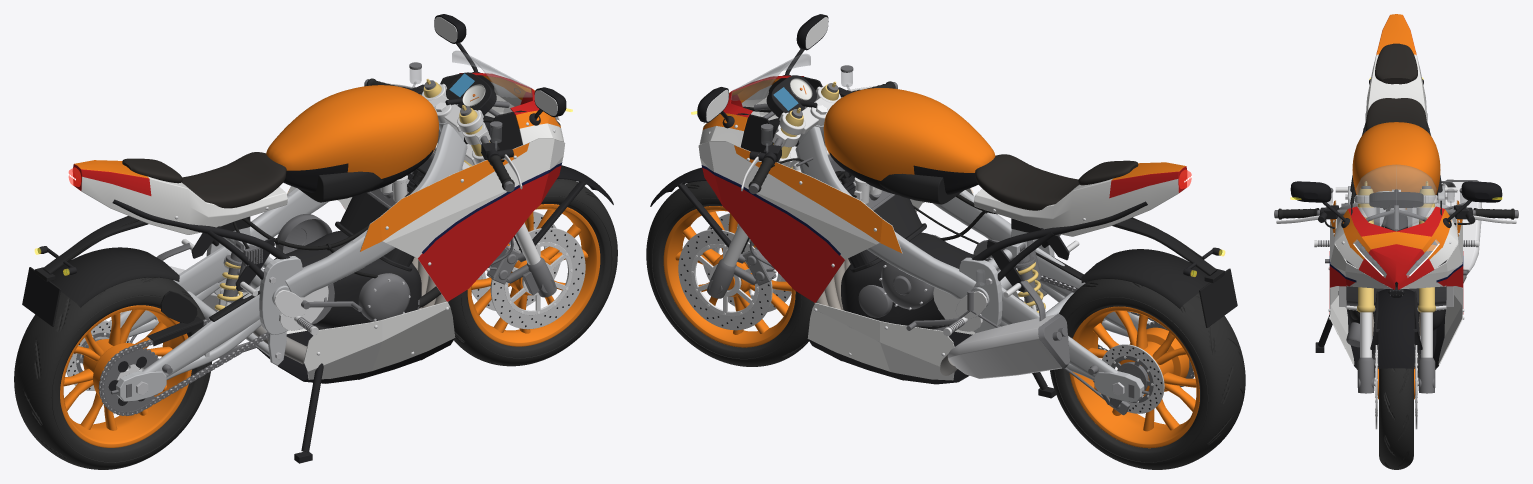
File: bike_superbike.glb
The picture shows the model from 3 angles, left to right: view 1: azimuth 30°, elevation 25°; view 2: azimuth 150°, elevation 25°; view 3: azimuth 270°, elevation 25°; orthographic projection. The views are drawn at different scales.
Visible parts, largest first — view 1: wheels__rear_wheel__tyre, frame_body__fuel_tank, frame_body__frame__main_spars, chassis__swingarm, wheels__front_wheel__tyre, frame_body__fairing__side_left__lower, frame_body__tail_unit, frame_body__fairing__side_left__red, frame_body__fairing__side_left, frame_body__rear_hugger, wheels__rear_wheel__rim, frame_body__seat (+33 smaller); view 2: wheels__rear_wheel__tyre, frame_body__fuel_tank, frame_body__frame__main_spars, wheels__front_wheel__tyre, frame_body__tail_unit, frame_body__fairing__side_right__red, frame_body__fairing__side_right__lower, frame_body__fairing__side_right, chassis__swingarm, powertrain__exhaust__silencer, wheels__rear_wheel__rim, frame_body__rear_hugger (+32 smaller); view 3: frame_body__fairing__upper, frame_body__fuel_tank, frame_body__fairing__screen, wheels__front_wheel__tyre, frame_body__front_mudguard, frame_body__tail_unit, frame_body__fairing__mirrors, frame_body__seat, frame_body__seat__pillion, powertrain__exhaust__silencer, frame_body__fairing__side_left, frame_body__fairing__side_right (+29 smaller).
Boxes of the visible parts, left/top/right/bottom form: wheels__rear_wheel__tyre: left=14, top=277, right=211, bottom=469; frame_body__fuel_tank: left=266, top=85, right=438, bottom=192; frame_body__frame__main_spars: left=206, top=122, right=467, bottom=365; chassis__swingarm: left=80, top=246, right=263, bottom=401; wheels__front_wheel__tyre: left=448, top=179, right=617, bottom=366; frame_body__fairing__side_left__lower: left=303, top=301, right=455, bottom=379; frame_body__tail_unit: left=73, top=160, right=287, bottom=234; frame_body__fairing__side_left__red: left=418, top=166, right=561, bottom=301; frame_body__fairing__side_left: left=360, top=139, right=565, bottom=299; frame_body__rear_hugger: left=50, top=247, right=197, bottom=323; wheels__rear_wheel__rim: left=60, top=305, right=191, bottom=447; frame_body__seat: left=181, top=152, right=286, bottom=208; wheels__rear_wheel__tyre: left=1050, top=279, right=1245, bottom=469; frame_body__fuel_tank: left=823, top=88, right=995, bottom=195; frame_body__frame__main_spars: left=795, top=125, right=1054, bottom=333; wheels__front_wheel__tyre: left=646, top=181, right=814, bottom=366; frame_body__tail_unit: left=974, top=162, right=1187, bottom=236; frame_body__fairing__side_right__red: left=702, top=168, right=844, bottom=302; frame_body__fairing__side_right__lower: left=807, top=303, right=954, bottom=380; frame_body__fairing__side_right: left=698, top=141, right=902, bottom=300; chassis__swingarm: left=997, top=248, right=1150, bottom=402; powertrain__exhaust__silencer: left=947, top=314, right=1061, bottom=378; wheels__rear_wheel__rim: left=1069, top=306, right=1199, bottom=448; frame_body__rear_hugger: left=1081, top=249, right=1209, bottom=308; frame_body__fairing__upper: left=1334, top=206, right=1458, bottom=289; frame_body__fuel_tank: left=1352, top=122, right=1440, bottom=209; frame_body__fairing__screen: left=1356, top=164, right=1436, bottom=231; wheels__front_wheel__tyre: left=1379, top=368, right=1413, bottom=469; frame_body__front_mudguard: left=1378, top=289, right=1414, bottom=368; frame_body__tail_unit: left=1366, top=14, right=1426, bottom=120; frame_body__fairing__mirrors: left=1290, top=181, right=1502, bottom=202; frame_body__seat: left=1365, top=98, right=1427, bottom=131; frame_body__seat__pillion: left=1375, top=43, right=1417, bottom=84; powertrain__exhaust__silencer: left=1442, top=182, right=1481, bottom=275; frame_body__fairing__side_left: left=1330, top=200, right=1392, bottom=314; frame_body__fairing__side_right: left=1400, top=200, right=1462, bottom=314.
Size of the model in its own units: 202 by 104 by 84.55.
